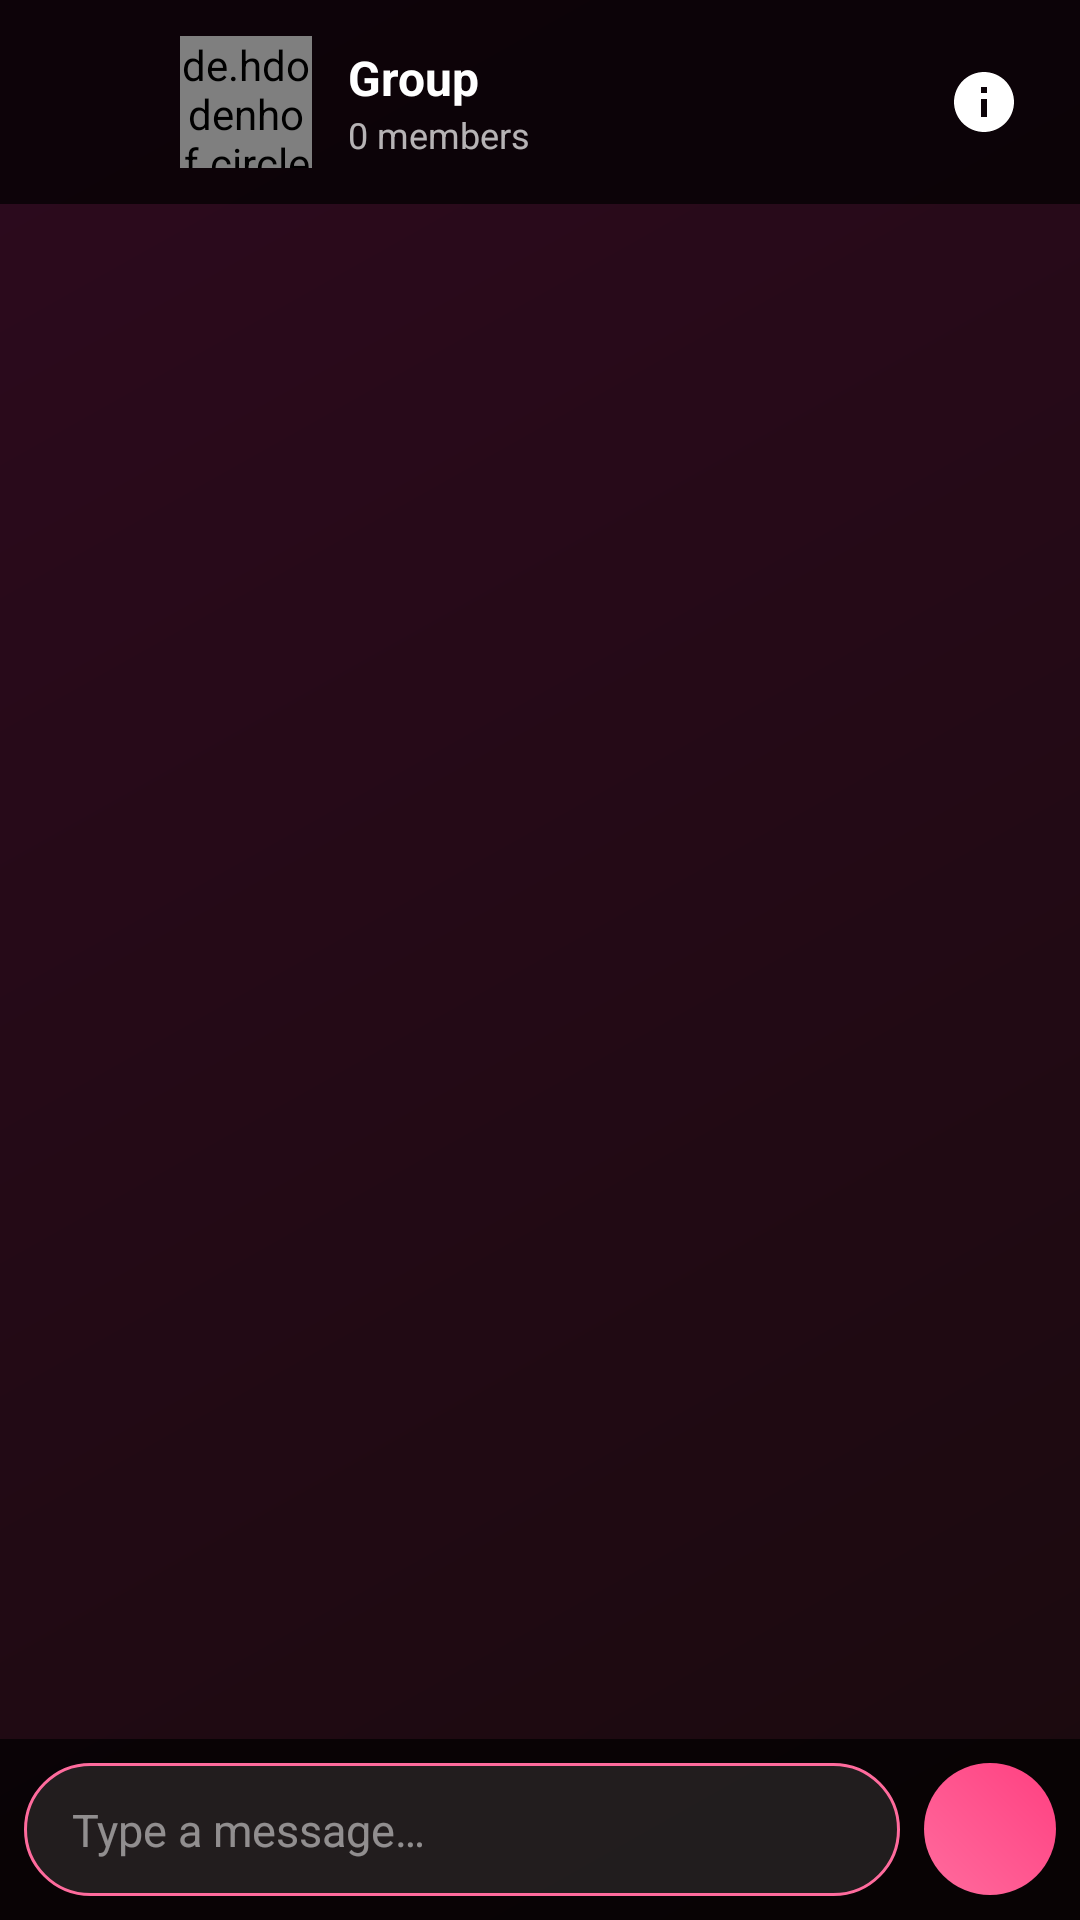

Where icons sit on this 1080*1920 app screen, as (x1, y1, x2, y2):
info: (954, 72, 1014, 132)
